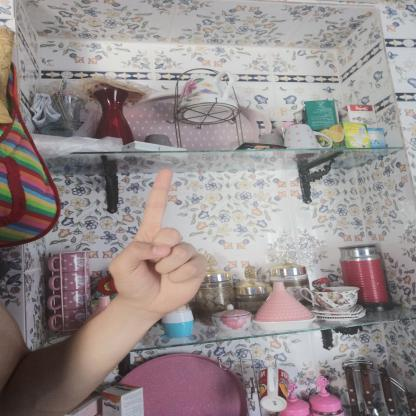BAA: (101, 158, 222, 325)
